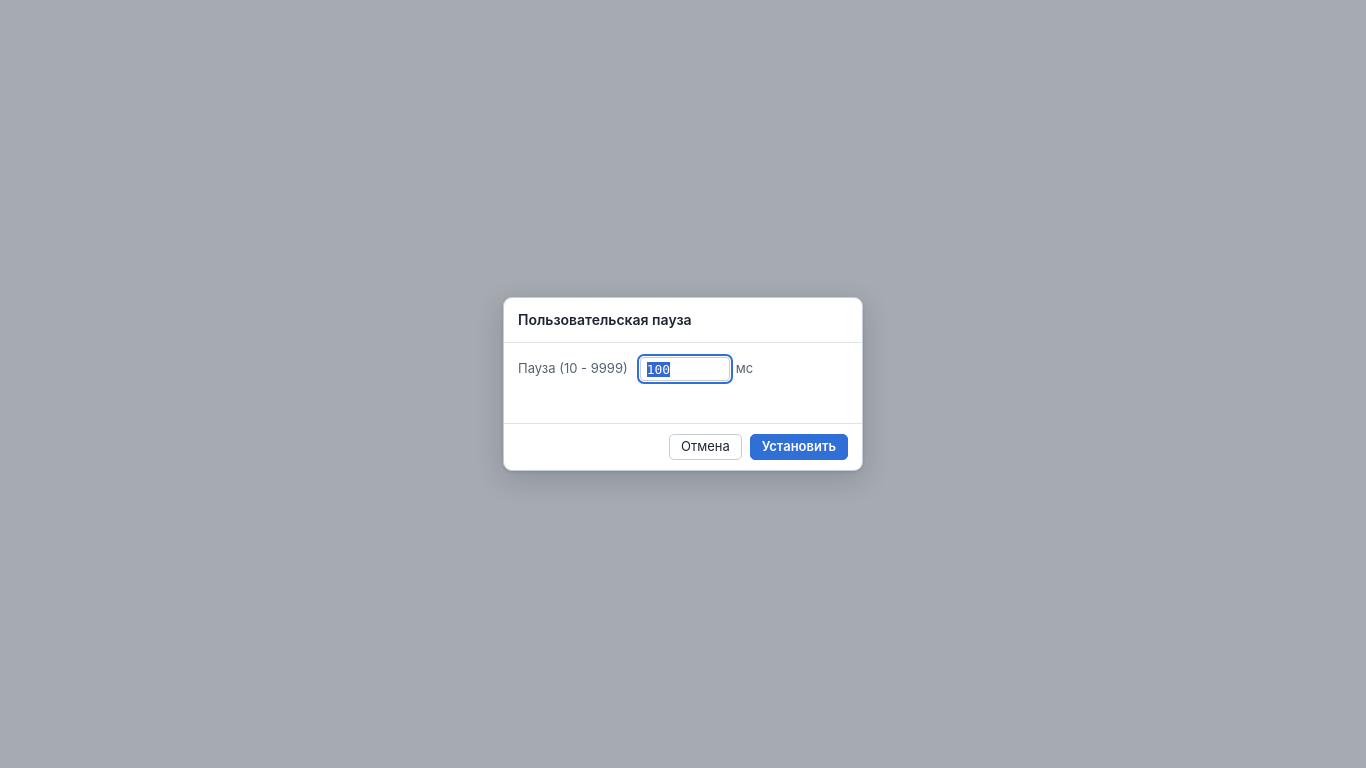
Test case: the custom pause dialog names the range once
The image size is (1366, 768).
Replace the text in the field labelled "Пауза (10 - 9999)" with "5": (685, 369) [640,357,730,381]
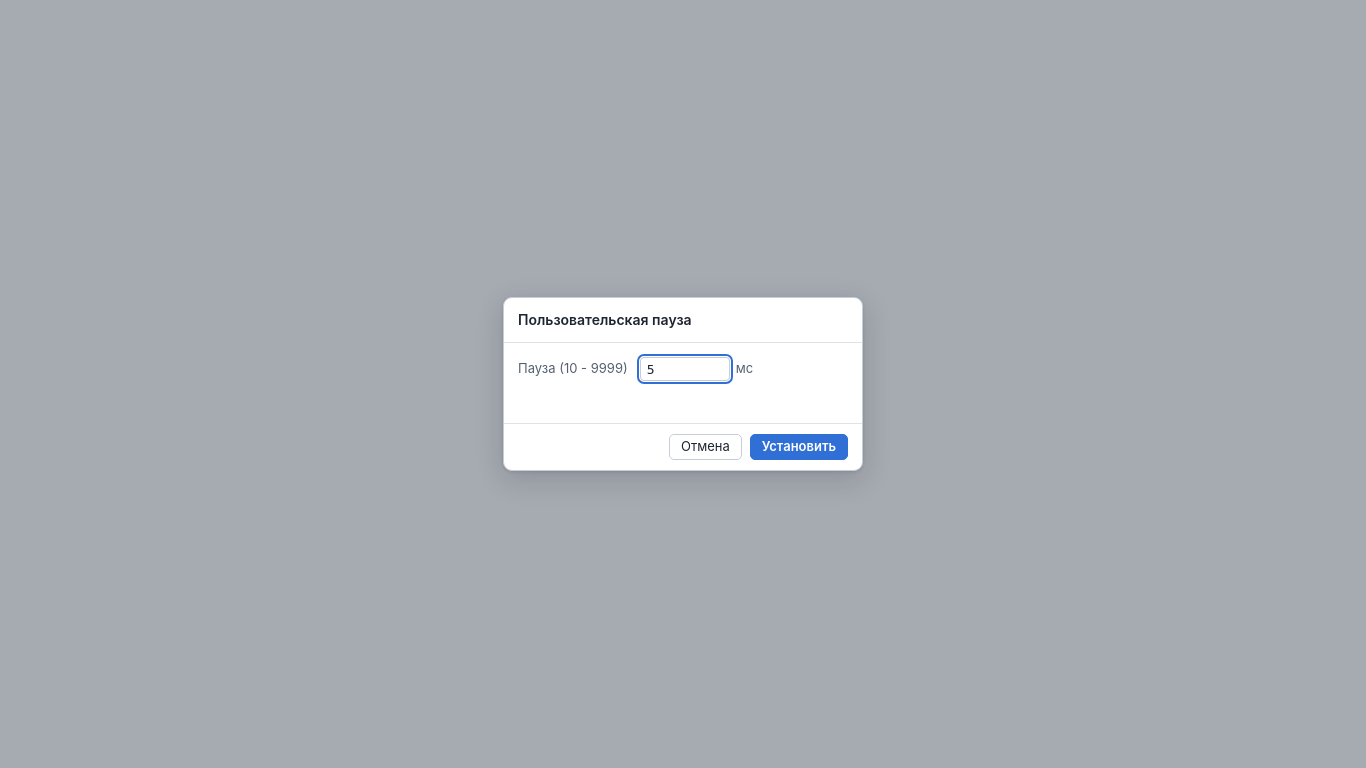
Click the button "Установить": (799, 447) [750,434,848,460]
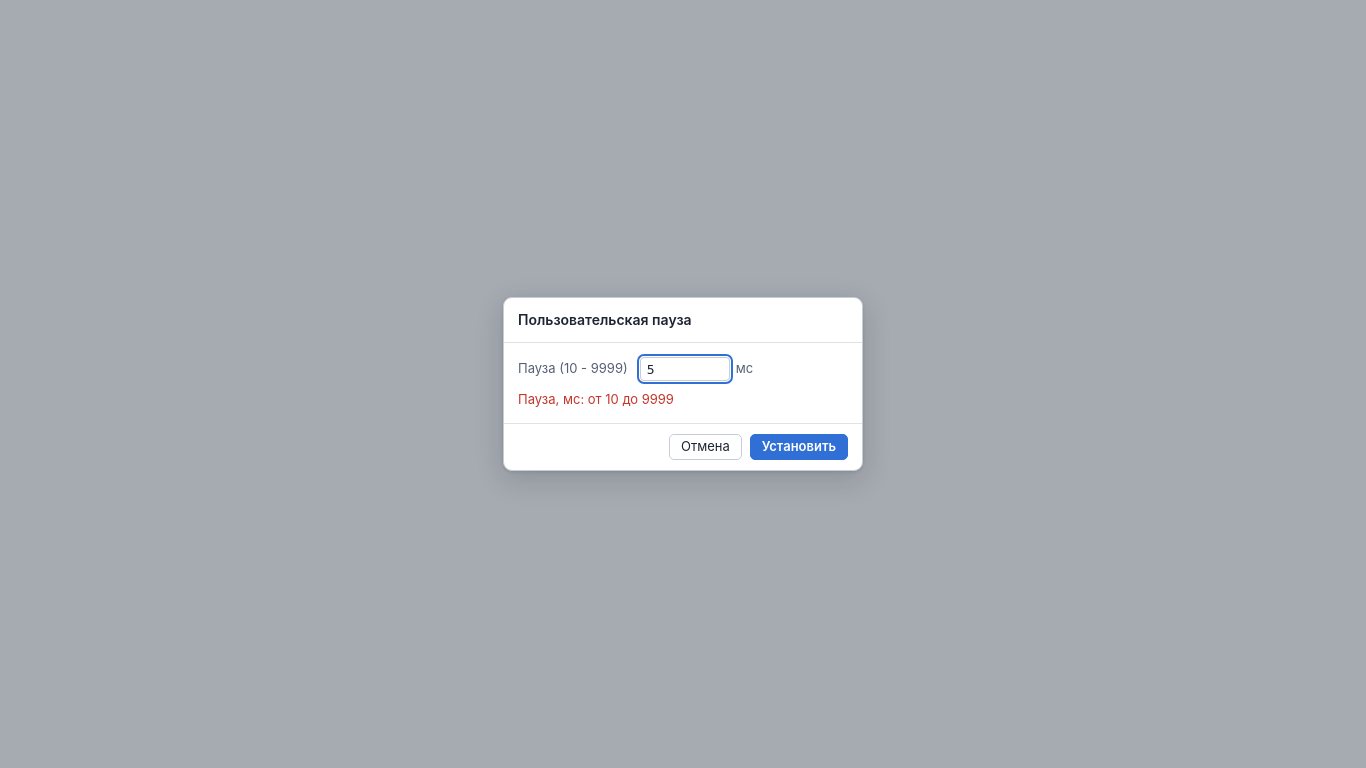
Expected: the text "Пауза, мс: от 10 до 9999" is shown, [518,391,674,407]
